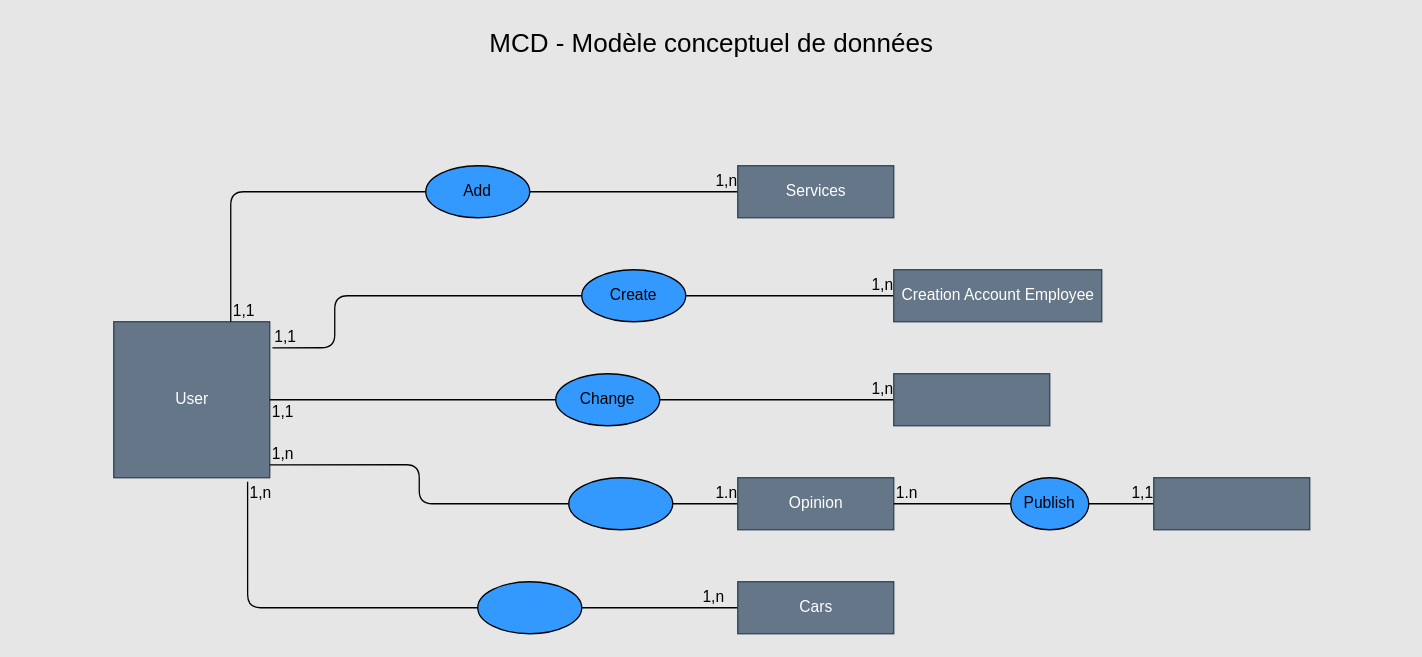
Some shapes in this 1422 by 657 pixel diagram are drawn without their labels. The shapes that lost their labels are listed below. From the top down, each one's centre as x and y in pixels, then its label:
At point (971, 399): "Planning".
At point (620, 503): "Insert".
At point (1231, 503): "Publish Opinion".
At point (529, 607): "Complete".
